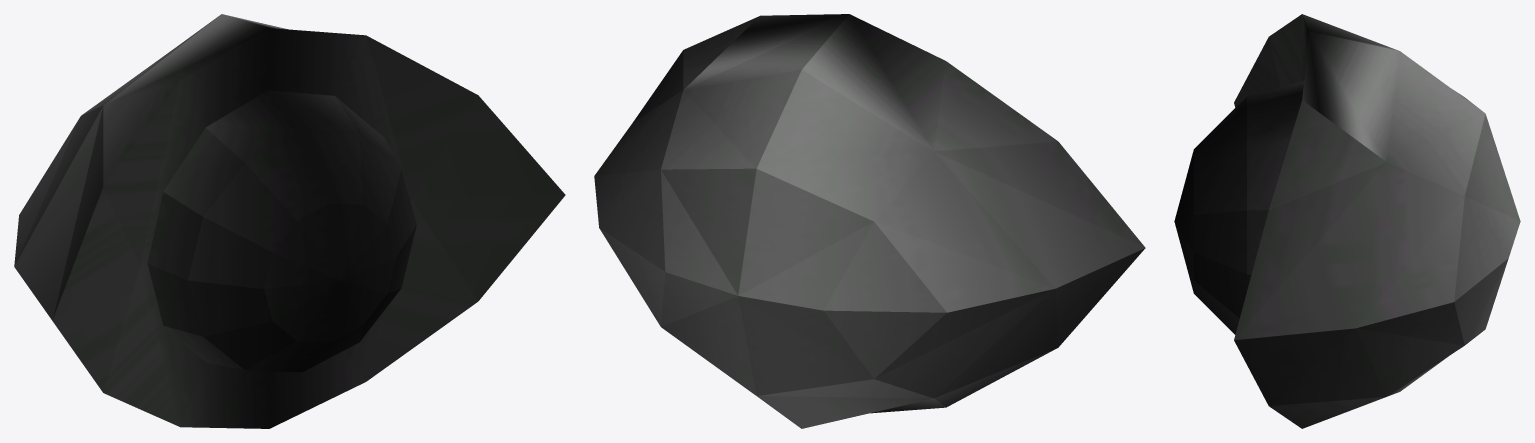
Rendered from machinery_guangzhu03.obj.
3 renders of one model, left to right at view 1: azimuth 30°, elevation 25°; view 2: azimuth 150°, elevation 25°; view 3: azimuth 270°, elevation 25°, orthographic. The views are drawn at different scales.
Visible parts, largest first — view 1: Box02liuguang; view 2: Box02liuguang; view 3: Box02liuguang.
Boxes of the visible parts, left/top/right/bottom form: Box02liuguang: left=14, top=14, right=565, bottom=428; Box02liuguang: left=594, top=14, right=1145, bottom=428; Box02liuguang: left=1174, top=14, right=1520, bottom=428.
Size of the model in its own units: 5.96 by 4.45 by 3.67.
